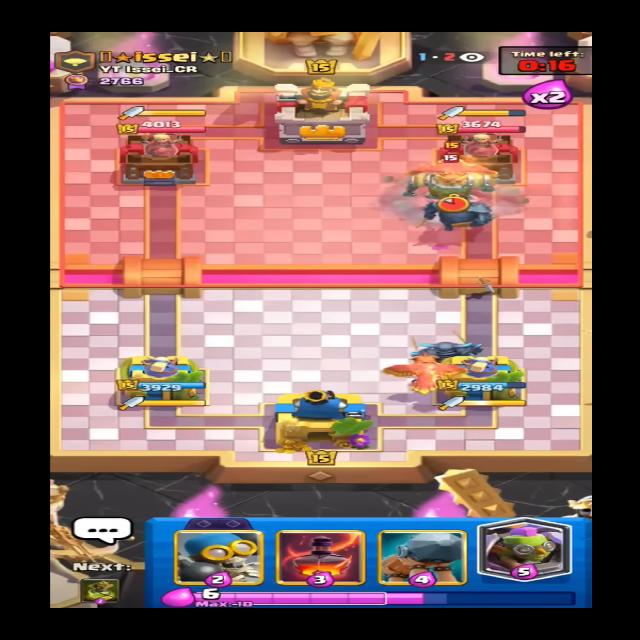Goblinmachine: (399, 166, 496, 206)
Pekka: (418, 190, 495, 231)
Pheonix: (407, 140, 502, 184)
